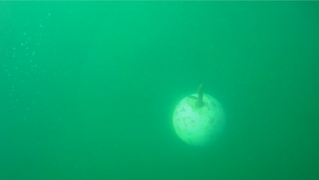buoy: (171, 92, 227, 148)
